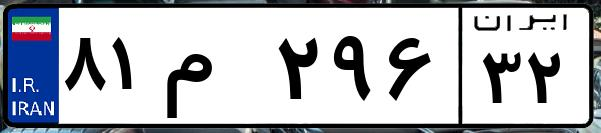1: (110, 28, 158, 98)
2: (270, 28, 330, 110), (525, 38, 570, 115)
3: (475, 38, 525, 113)
6: (385, 28, 445, 110)
8: (57, 26, 110, 100)
9: (330, 28, 385, 110)
م: (158, 20, 270, 120)
